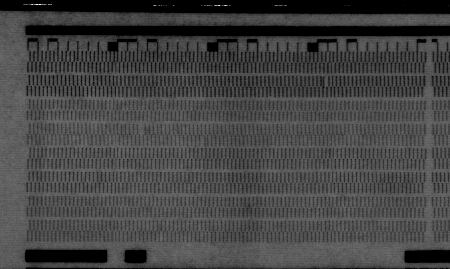Broken hole: (136, 124, 147, 136)
Oblique printing: (319, 75, 330, 90)
